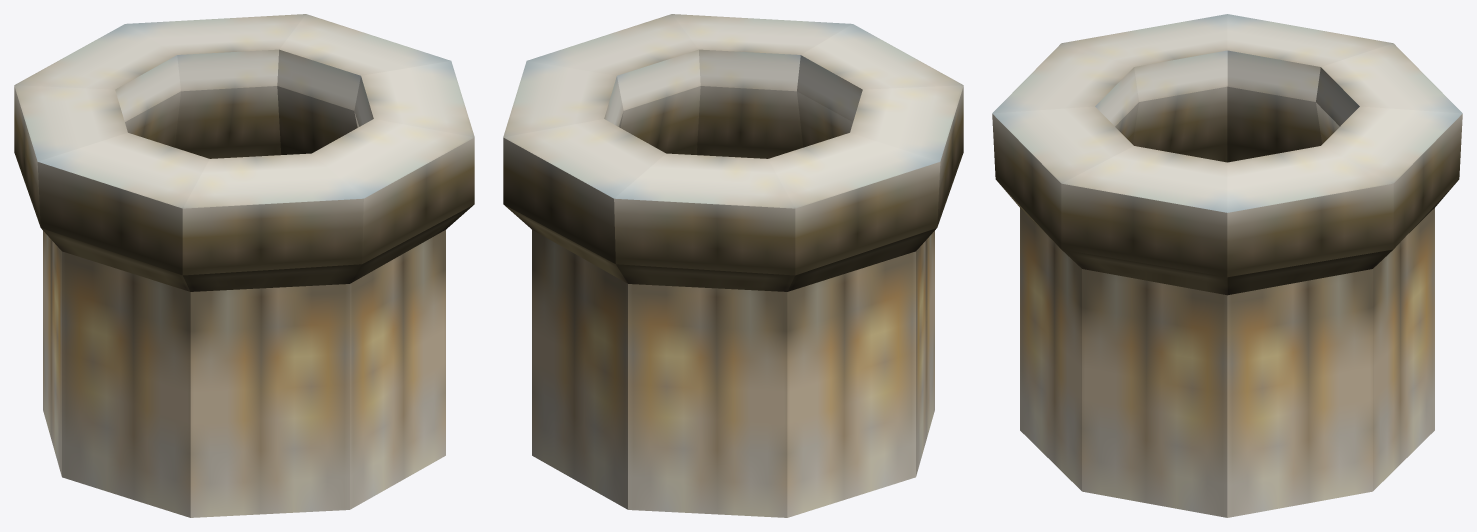
File: Poly_Well_01_Snow.obj
3 renders of one model, left to right at view 1: azimuth 30°, elevation 25°; view 2: azimuth 150°, elevation 25°; view 3: azimuth 270°, elevation 25°, orthographic.
Parts seen in each view (by area): view 1: Torus; view 2: Torus; view 3: Torus.
Boxes of the visible parts, left/top/right/bottom form: Torus: left=14, top=14, right=474, bottom=517; Torus: left=503, top=14, right=963, bottom=517; Torus: left=992, top=14, right=1462, bottom=517.
Size of the model in its own units: 1.36 by 1.04 by 1.36.
2 materials, 2 textured.
